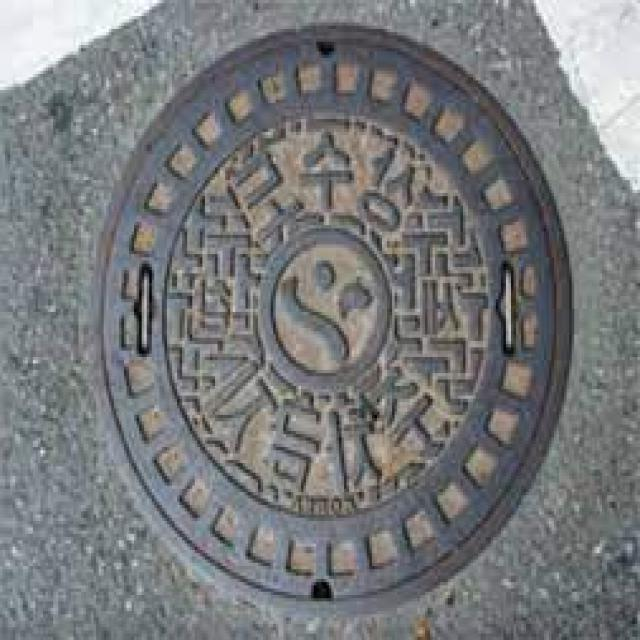Sewer Cover: (47, 2, 632, 640)
